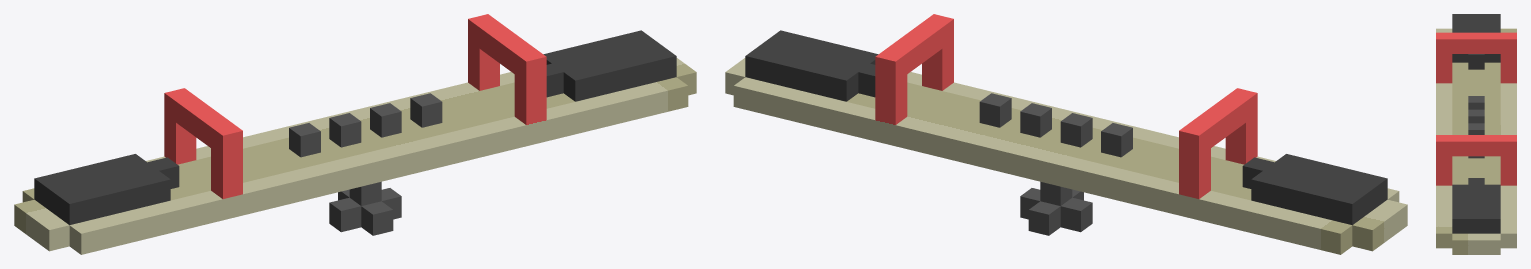
Rendered from seesaw.obj.
The picture shows the model from 3 angles, left to right: view 1: azimuth 30°, elevation 25°; view 2: azimuth 150°, elevation 25°; view 3: azimuth 270°, elevation 25°; orthographic projection. The views are drawn at different scales.
Parts seen in each view (by area): view 1: Box_45; view 2: Box_45; view 3: Box_45.
Part boxes in pixels (x1=…): Box_45: x1=14, y1=14, x2=696, y2=254; Box_45: x1=725, y1=14, x2=1407, y2=254; Box_45: x1=1436, y1=14, x2=1516, y2=254.
Size of the model in its own units: 32 by 7 by 5.
1 material, 1 textured.
